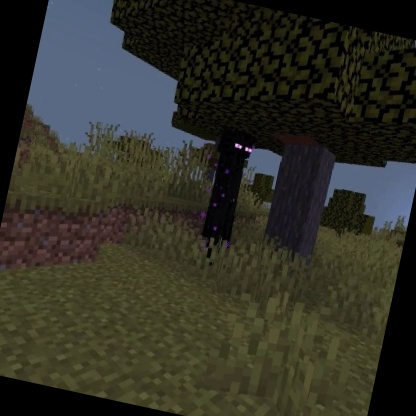enderman: (191, 124, 258, 272)
